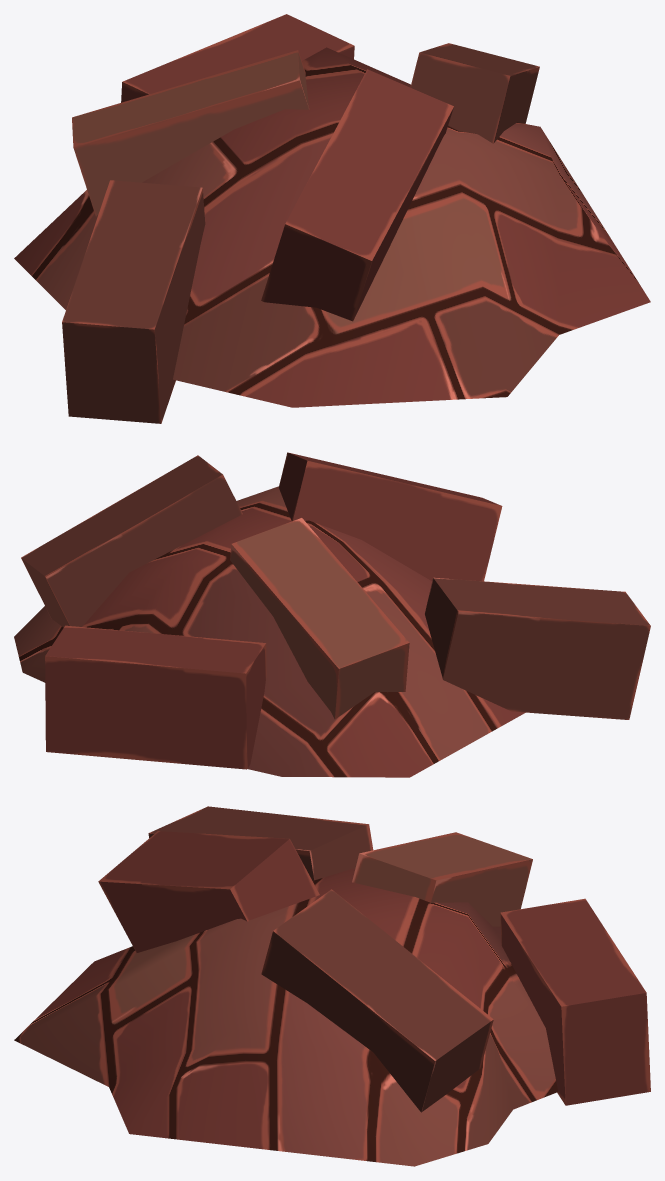
File: debris_bricks01.fbx
3 views of the same model, one above another, from view 1: azimuth 30°, elevation 25°; view 2: azimuth 150°, elevation 25°; view 3: azimuth 270°, elevation 25° (orthographic). The views are drawn at different scales.
Parts seen in each view (by area): view 1: debris_bricks01; view 2: debris_bricks01; view 3: debris_bricks01.
Part boxes in pixels (left/top/right/bottom): debris_bricks01: left=14, top=14, right=650, bottom=423; debris_bricks01: left=14, top=452, right=650, bottom=777; debris_bricks01: left=14, top=806, right=650, bottom=1166.
Bounding box in the file's own units: 151 × 56.03 × 143.
